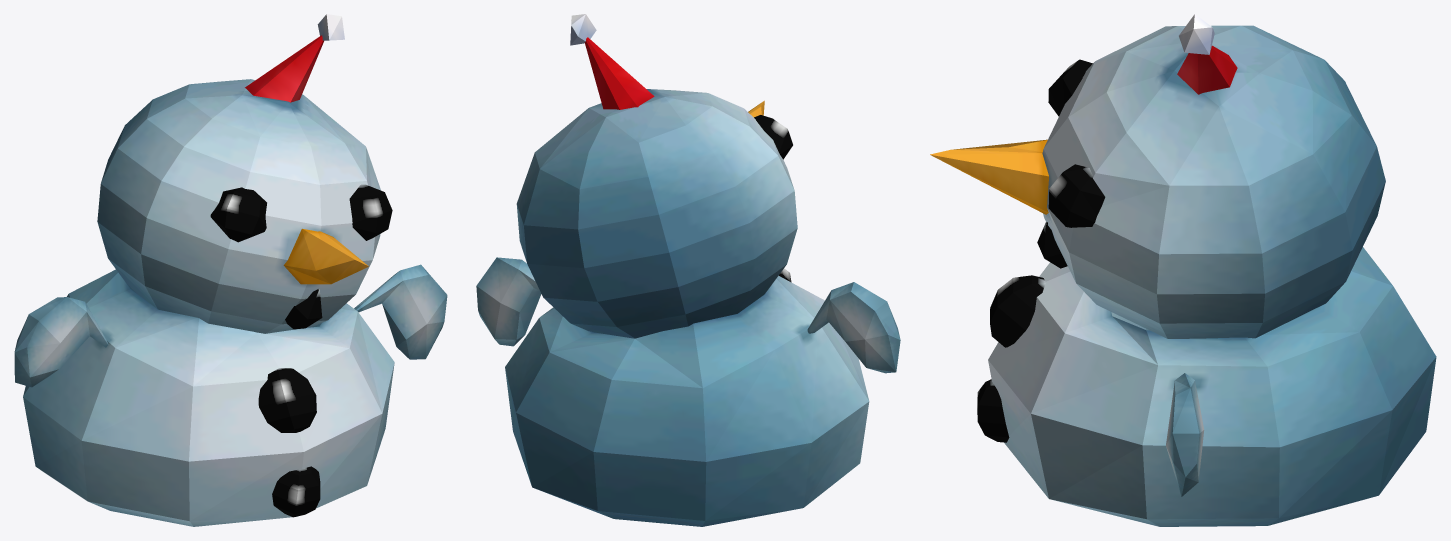
The model's file is Snowman.obj.
3 views of the same model, side by side, from view 1: azimuth 30°, elevation 25°; view 2: azimuth 150°, elevation 25°; view 3: azimuth 270°, elevation 25° (orthographic). The views are drawn at different scales.
Parts seen in each view (by area): view 1: Inst3D10_RefRep.96; view 2: Inst3D10_RefRep.96; view 3: Inst3D10_RefRep.96.
Boxes of the visible parts, <box> form: Inst3D10_RefRep.96: <box>14,14,447,526</box>; Inst3D10_RefRep.96: <box>476,14,900,526</box>; Inst3D10_RefRep.96: <box>930,14,1436,526</box>.
Bounding box in the file's own units: 2.97 × 2.94 × 2.58.
